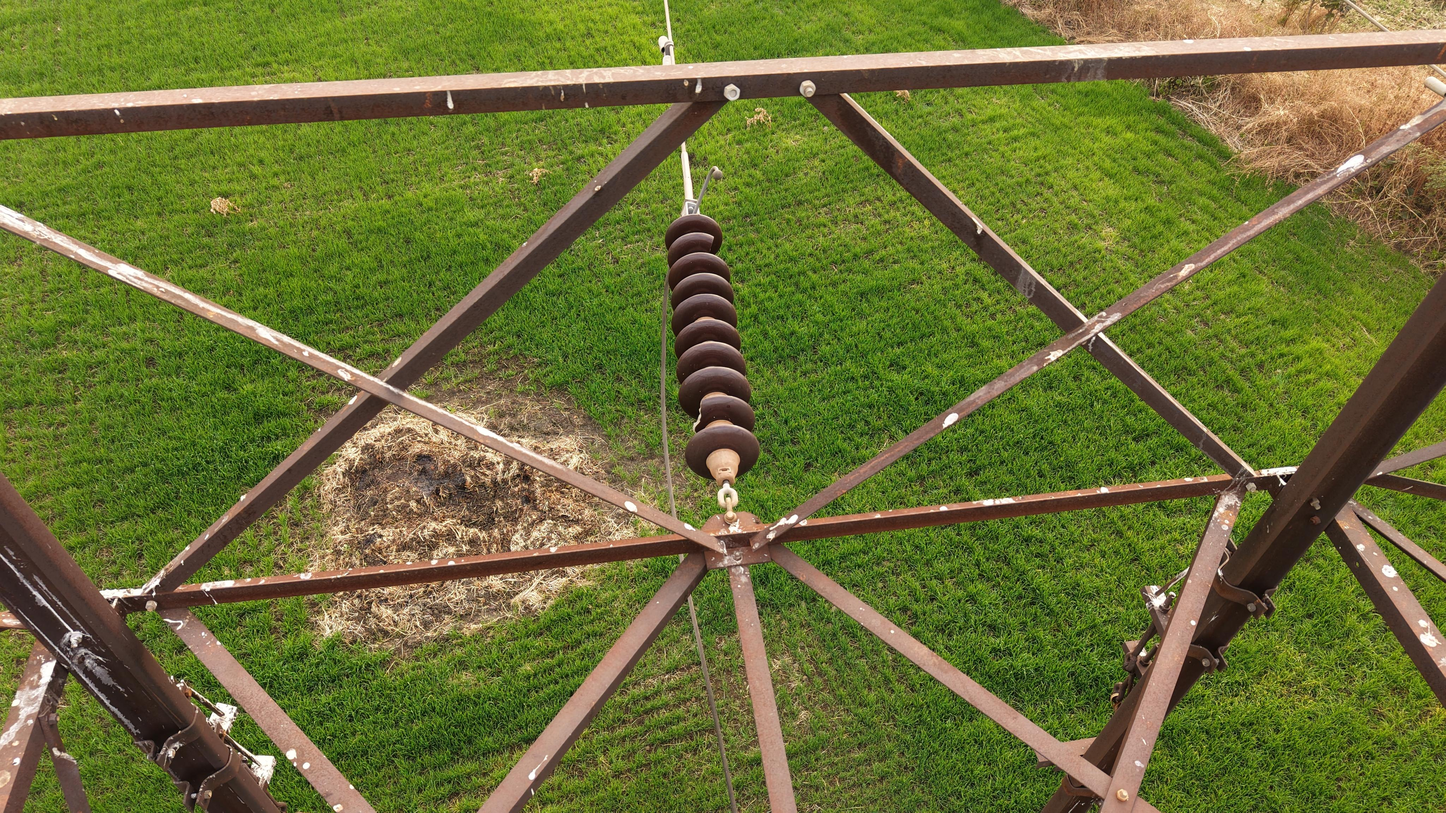broken_insulator: (681, 393, 756, 433), (661, 227, 731, 255)
